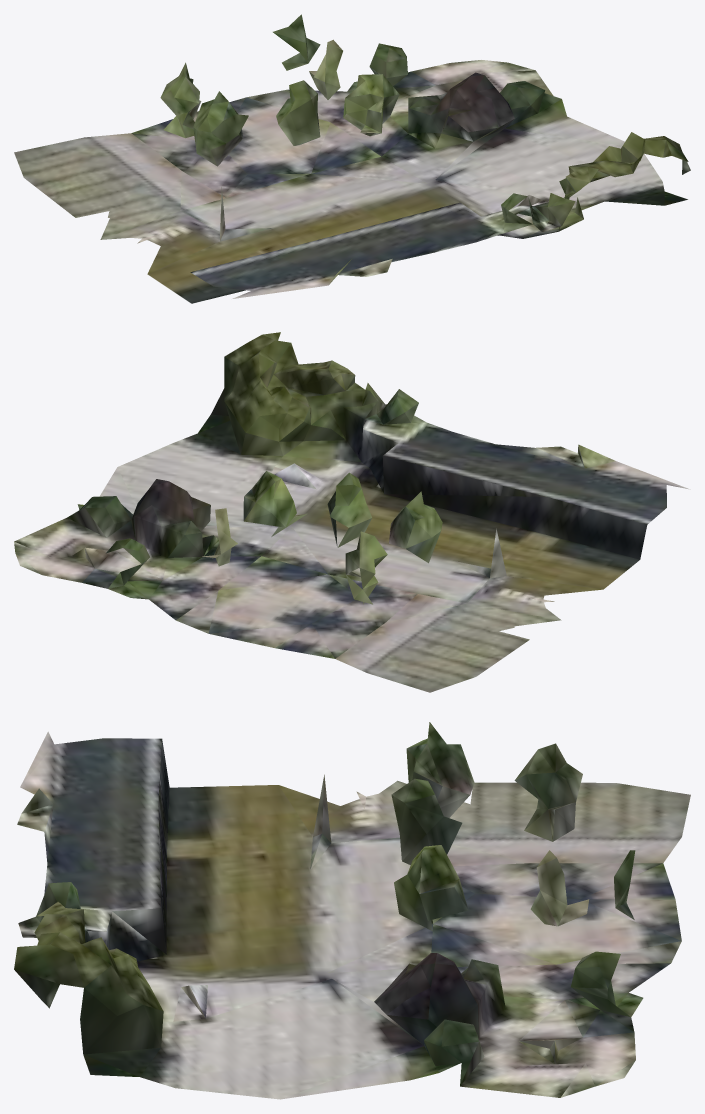
The model's file is Tile_+004_+008_L17_00.glb.
The picture shows the model from 3 angles, top to bottom: view 1: azimuth 30°, elevation 25°; view 2: azimuth 150°, elevation 25°; view 3: azimuth 270°, elevation 25°; orthographic projection. The views are drawn at different scales.
Visible parts, largest first — view 1: rtc; view 2: rtc; view 3: rtc.
Part boxes in pixels (x1,y1,x2,y2): rtc: [14, 14, 690, 303]; rtc: [14, 332, 690, 692]; rtc: [14, 722, 690, 1099].
Bounding box in the file's own units: 60.43 × 12.88 × 53.59.
Materials: 1 (1 with a texture image).
